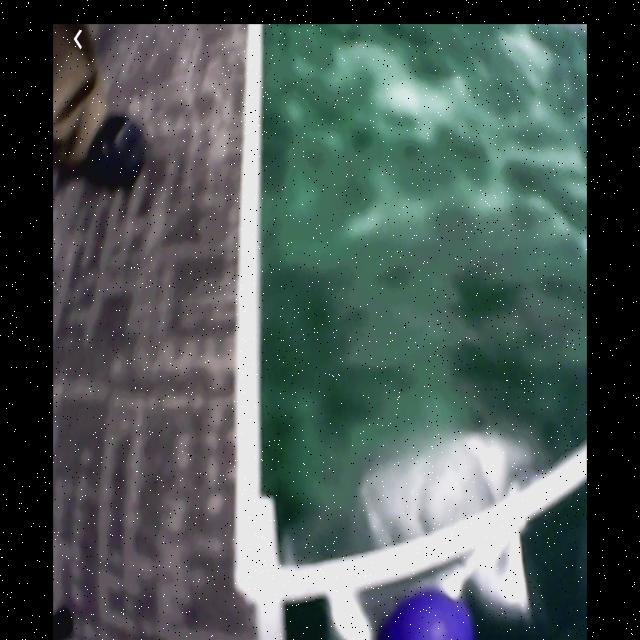ball: (384, 590, 477, 640)
